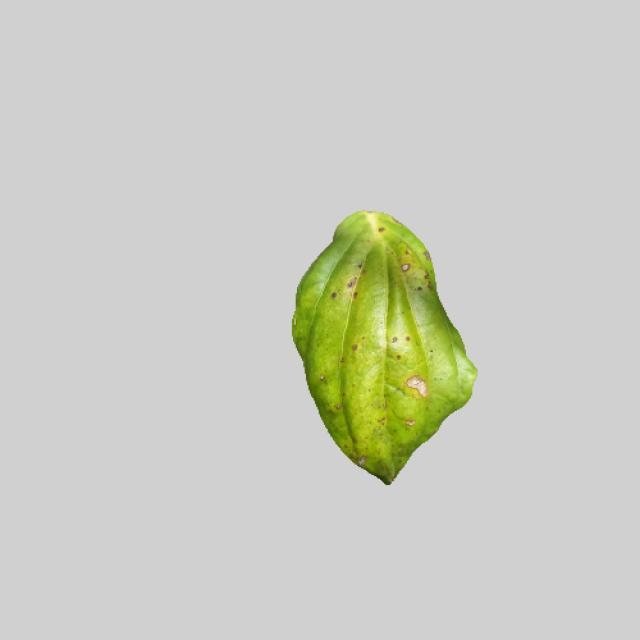yellow-mottle-virus: (279, 202, 484, 485)
